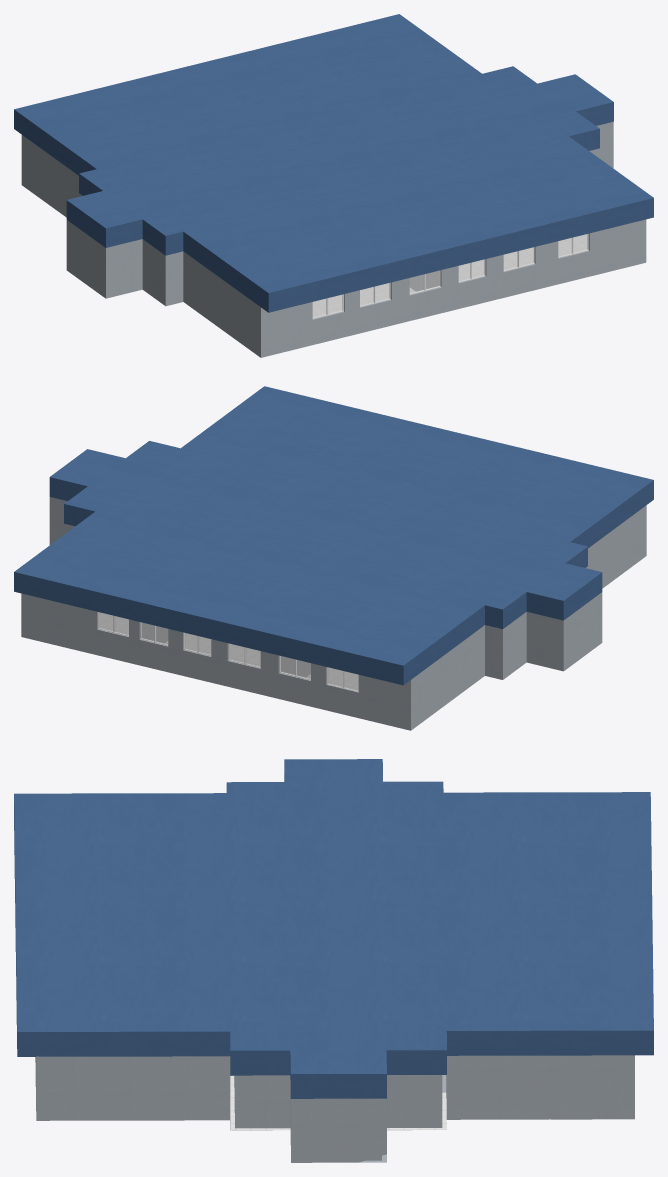
The model's file is USIT-P2_.glb.
3 views of the same model, one above another, from view 1: azimuth 30°, elevation 25°; view 2: azimuth 150°, elevation 25°; view 3: azimuth 270°, elevation 25° (orthographic). The views are drawn at different scales.
Visible parts, largest first — view 1: TechoUSTI, Paredes_P2, Vidrio_P2, Piso_P2, Marcos_P2; view 2: TechoUSTI, Paredes_P2, Vidrio_P2, Piso_P2, Marcos_P2; view 3: TechoUSTI, Paredes_P2, Piso_P2.
Part boxes in pixels (box(x1,y1,x2,y2)): TechoUSTI: box(14, 14, 653, 312); Paredes_P2: box(21, 121, 646, 357); Vidrio_P2: box(312, 234, 587, 317); Piso_P2: box(313, 234, 586, 316); Marcos_P2: box(312, 233, 588, 318); TechoUSTI: box(14, 386, 653, 685); Paredes_P2: box(21, 497, 646, 730); Vidrio_P2: box(99, 612, 358, 690); Piso_P2: box(99, 613, 358, 689); Marcos_P2: box(98, 612, 358, 691); TechoUSTI: box(14, 759, 653, 1098); Paredes_P2: box(35, 1055, 634, 1162); Piso_P2: box(230, 1076, 550, 1130).
Size of the model in its own units: 0.346 by 0.0456 by 0.2971.
Materials: 12 (7 with a texture image).
